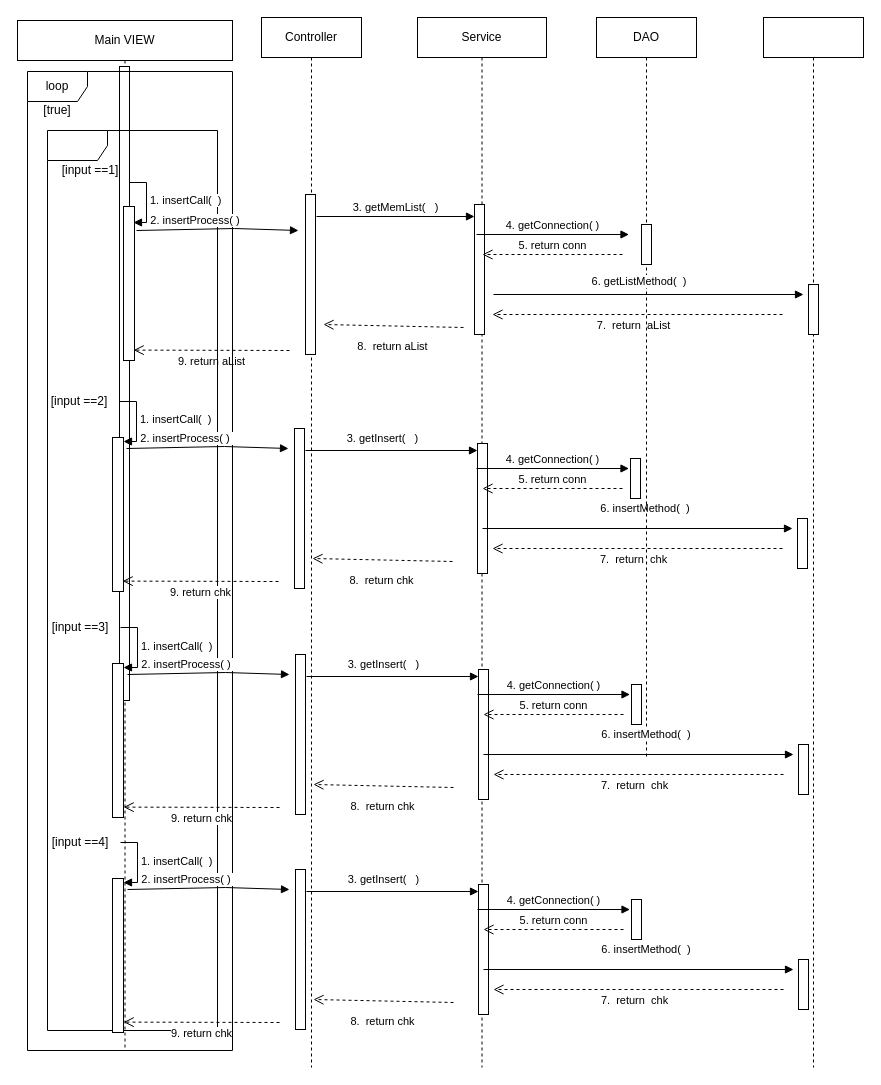
The diagram is 881 pixels wide and 1085 high, and some of its shapes have lost their labels. The box of each missing label's shape, as (x1, y1, x2, y2) in pixels:
alt: (46, 130, 218, 1030)
DB: (762, 16, 864, 1068)
